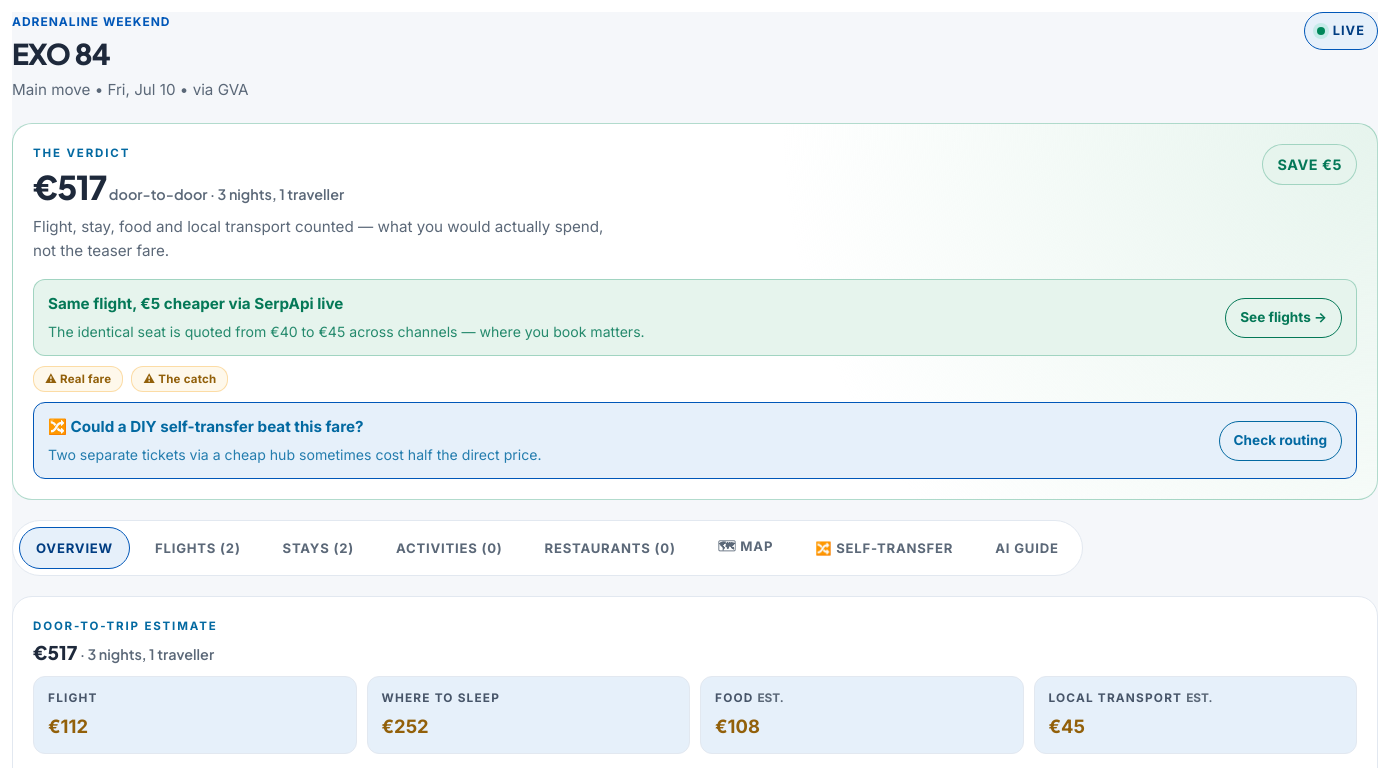
TripExploreDashboard — flights tab › shows all unified flights with provider labels and backend price labels
The width and height of the screenshot is (1378, 768).
Click the tab "Flights (2)". click: [198, 548]
box: x1=138 y1=527 x2=258 y2=569
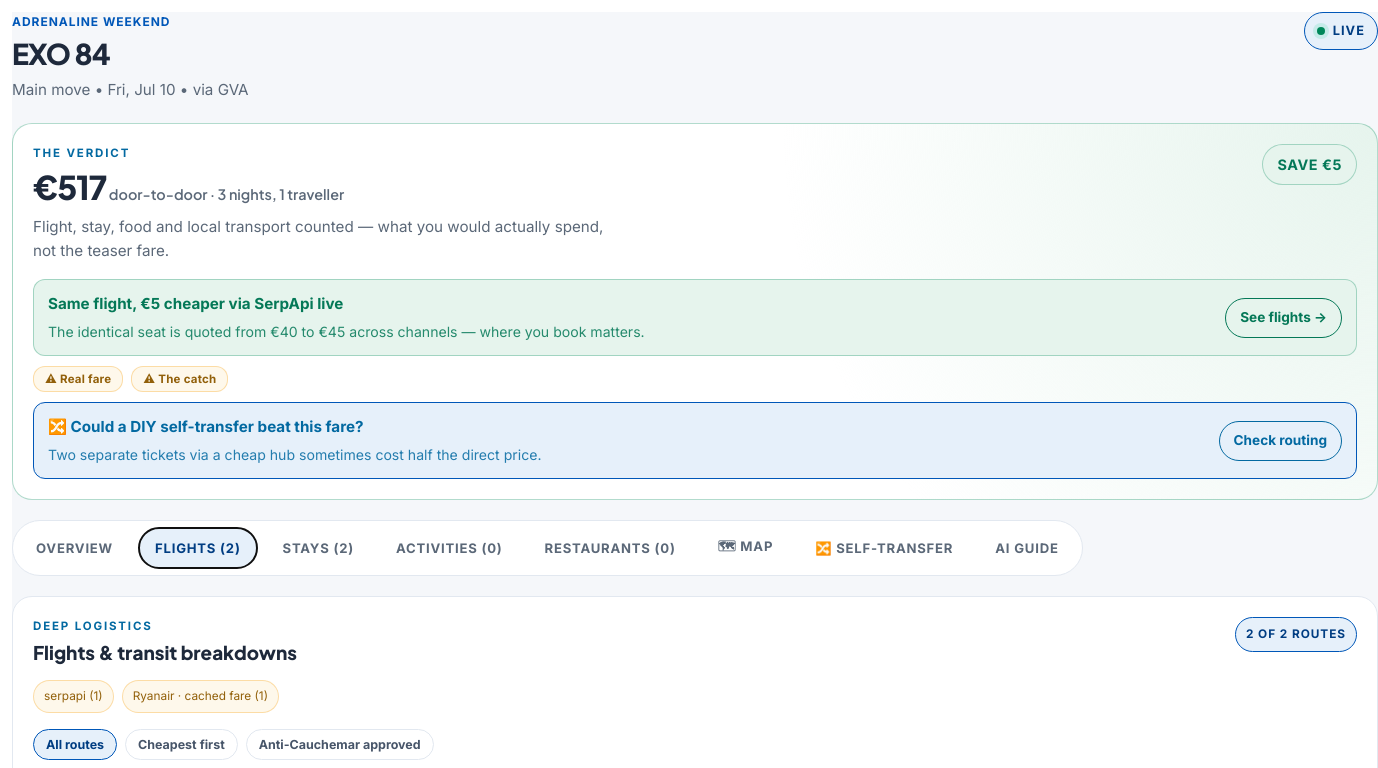
Check: the text "serpapi (1)" is shown, box x1=33 y1=680 x2=114 y2=713
Check: the text "Ryanair · cached fare (1)" is shown, box x1=122 y1=680 x2=279 y2=713
